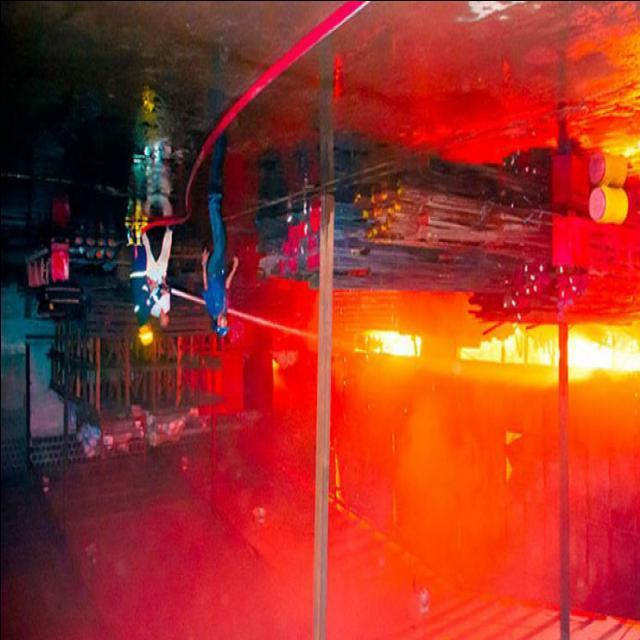Fire: (344, 310, 636, 406)
